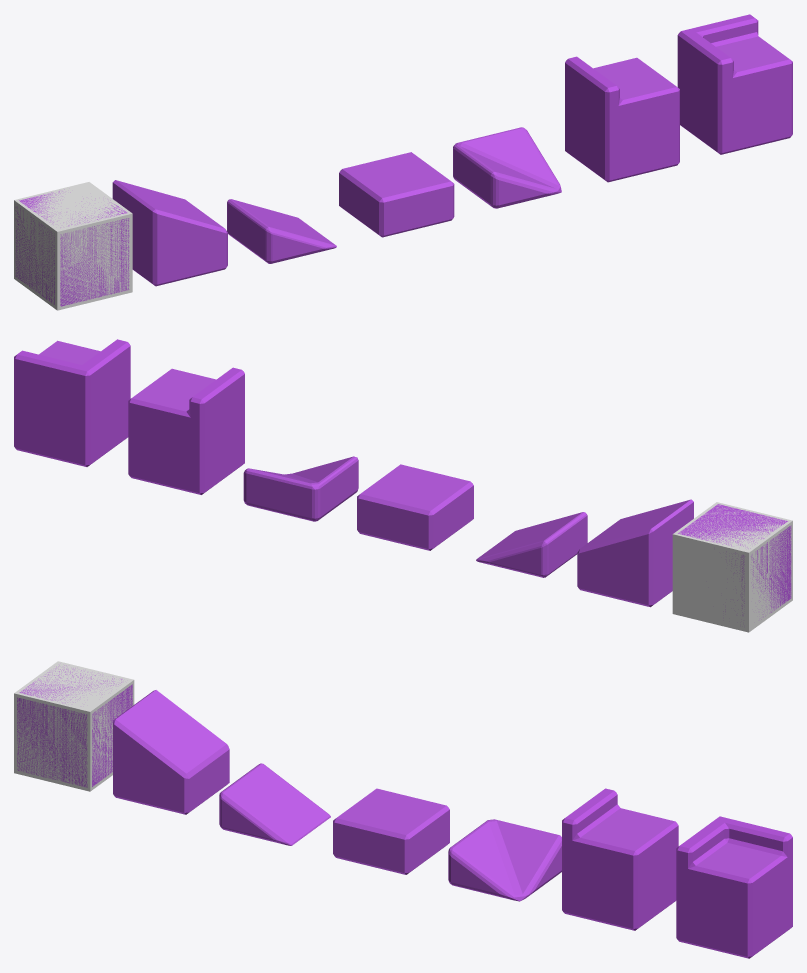
The model's file is 3dblocksV1.glb.
3 renders of one model, top to bottom at view 1: azimuth 30°, elevation 25°; view 2: azimuth 150°, elevation 25°; view 3: azimuth 330°, elevation 25°, orthographic.
Visible parts, largest first — view 1: blockwallcorner, block-colononly, blockwall, ramptop, blockshort, block, ramplowercorner, rampbottom; view 2: blockwallcorner, blockwall, block-colononly, ramptop, blockshort, ramplowercorner, block, rampbottom; view 3: blockwallcorner, blockwall, block-colononly, ramptop, block, blockshort, ramplowercorner, rampbottom.
Part boxes in pixels (x1=…): blockwallcorner: x1=677, y1=14, x2=792, y2=154; block-colononly: x1=14, y1=182, x2=132, y2=310; blockwall: x1=565, y1=56, x2=679, y2=182; ramptop: x1=112, y1=180, x2=227, y2=286; blockshort: x1=339, y1=152, x2=454, y2=237; block: x1=15, y1=189, x2=129, y2=306; ramplowercorner: x1=453, y1=127, x2=561, y2=208; rampbottom: x1=227, y1=199, x2=336, y2=263; blockwallcorner: x1=14, y1=339, x2=130, y2=466; blockwall: x1=128, y1=367, x2=244, y2=494; block-colononly: x1=672, y1=502, x2=792, y2=632; ramptop: x1=577, y1=499, x2=693, y2=607; blockshort: x1=357, y1=464, x2=473, y2=550; ramplowercorner: x1=243, y1=456, x2=358, y2=521; block: x1=678, y1=504, x2=791, y2=619; rampbottom: x1=476, y1=512, x2=587, y2=577; blockwallcorner: x1=676, y1=816, x2=792, y2=958; blockwall: x1=562, y1=788, x2=678, y2=930; block-colononly: x1=14, y1=661, x2=134, y2=791; ramptop: x1=113, y1=690, x2=229, y2=814; block: x1=17, y1=665, x2=132, y2=787; blockshort: x1=333, y1=788, x2=449, y2=874; ramplowercorner: x1=448, y1=819, x2=561, y2=901; rampbottom: x1=219, y1=763, x2=330, y2=845.
Size of what is drawn, in the model's own units: 19.46 by 2.4 by 2.23.
